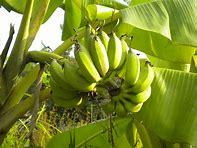banana: (39, 26, 156, 120)
